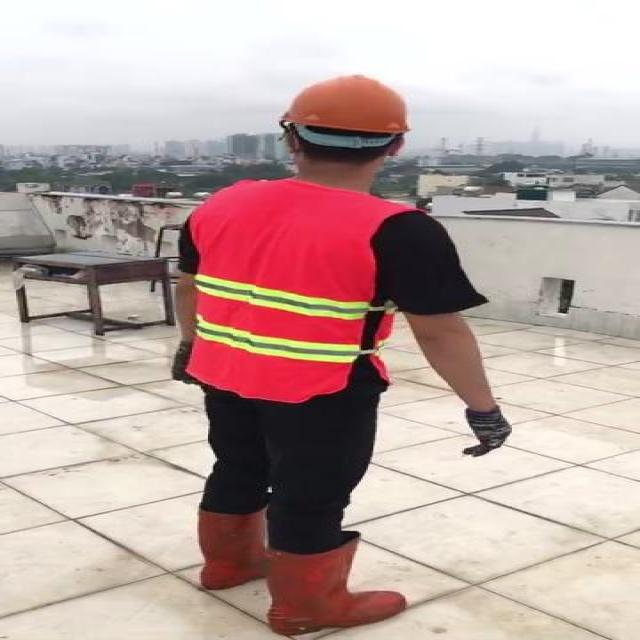boots: (265, 539, 409, 635), (190, 501, 268, 590)
hand_glove: (464, 408, 512, 460)
head_helmet: (271, 71, 422, 138)
person: (162, 71, 538, 640)
vest: (185, 182, 403, 397)
